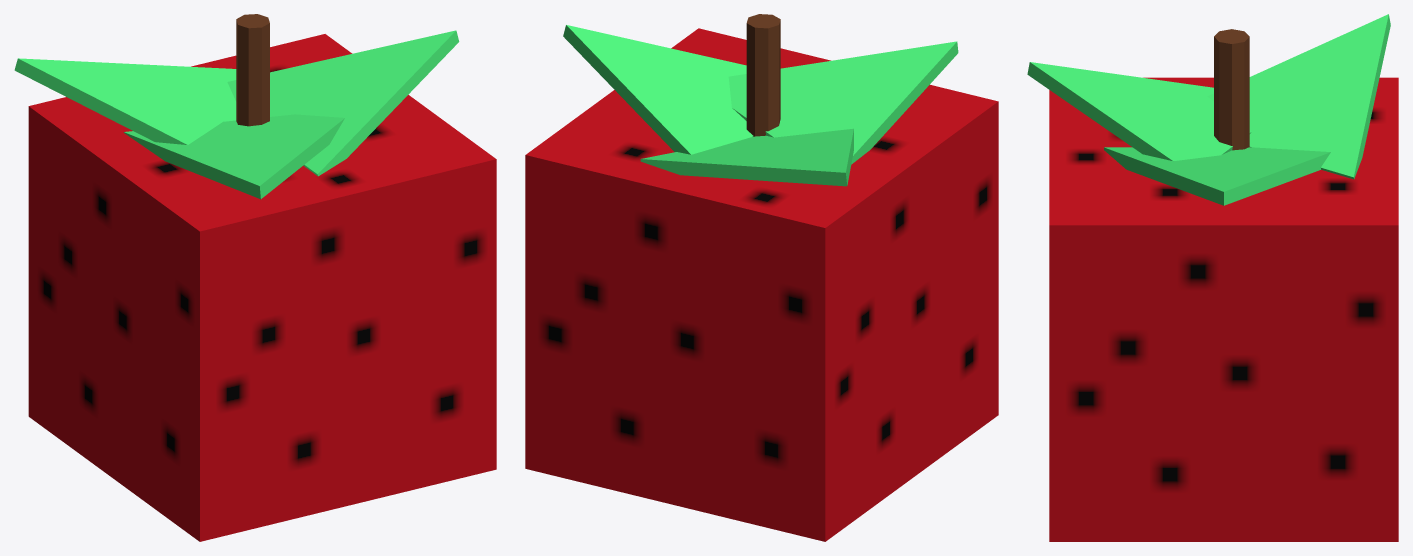
The model's file is cuberry.fbx.
3 renders of one model, left to right at view 1: azimuth 30°, elevation 25°; view 2: azimuth 150°, elevation 25°; view 3: azimuth 270°, elevation 25°, orthographic.
Visible parts, largest first — view 1: Cylinder; view 2: Cylinder; view 3: Cylinder.
Boxes of the visible parts, left/top/right/bottom form: Cylinder: left=14, top=14, right=496, bottom=541; Cylinder: left=525, top=14, right=998, bottom=541; Cylinder: left=1027, top=14, right=1398, bottom=541.
Size of the model in its own units: 245 by 271 by 213.
Materials: 1 (1 with a texture image).
